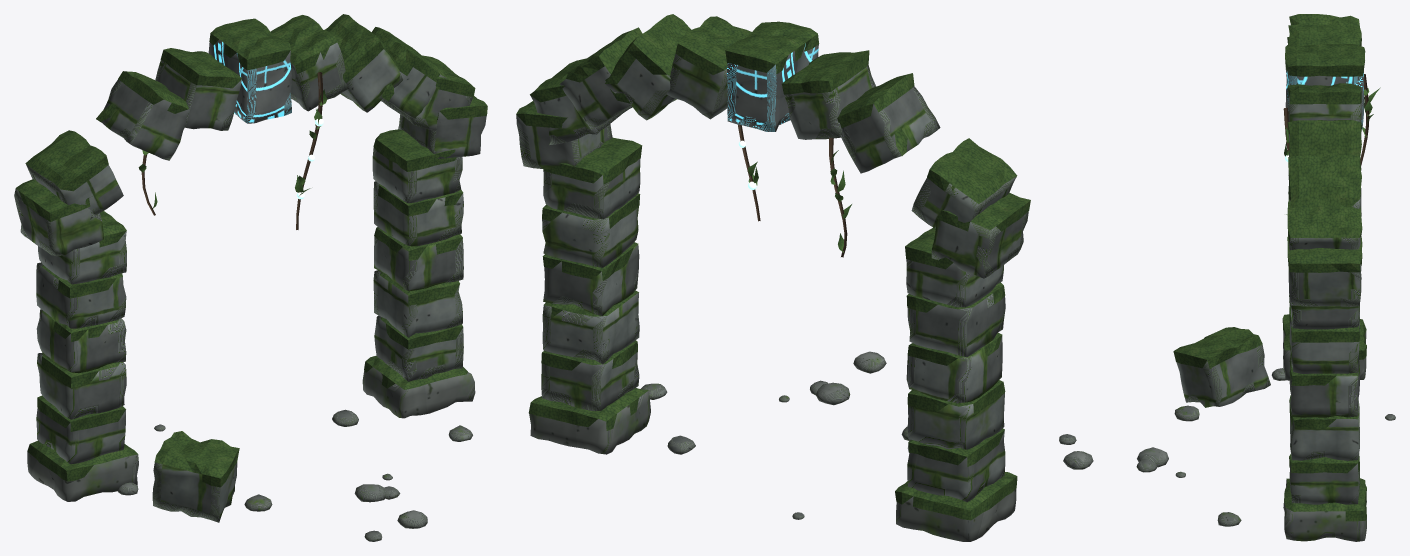
File: ruin_archway.glb
3 renders of one model, left to right at view 1: azimuth 30°, elevation 25°; view 2: azimuth 150°, elevation 25°; view 3: azimuth 270°, elevation 25°, orthographic. The views are drawn at different scales.
Visible parts, largest first — view 1: ruin_archway__stone_wall, ruin_archway__moss, ruin_archway__stone_block, ruin_archway__rune_stone, ruin_archway__root; view 2: ruin_archway__stone_wall, ruin_archway__moss, ruin_archway__stone_block, ruin_archway__rune_stone, ruin_archway__root; view 3: ruin_archway__moss, ruin_archway__stone_wall, ruin_archway__stone_block, ruin_archway__rune_stone, ruin_archway__root.
Boxes of the visible parts, box(x1,y1,x2,y2) form: ruin_archway__stone_wall: box(14, 42, 486, 522); ruin_archway__moss: box(16, 14, 487, 487); ruin_archway__stone_block: box(27, 367, 475, 541); ruin_archway__rune_stone: box(208, 39, 292, 123); ruin_archway__root: box(141, 72, 322, 229); ruin_archway__stone_wall: box(516, 54, 1028, 502); ruin_archway__moss: box(516, 14, 1030, 520); ruin_archway__stone_block: box(529, 351, 1016, 541); ruin_archway__rune_stone: box(727, 43, 818, 131); ruin_archway__root: box(737, 124, 847, 257); ruin_archway__moss: box(1173, 14, 1366, 521); ruin_archway__stone_wall: box(1176, 94, 1361, 504); ruin_archway__stone_block: box(1059, 330, 1395, 541); ruin_archway__rune_stone: box(1285, 67, 1364, 128); ruin_archway__root: box(1283, 74, 1369, 165).
Size of the model in its own units: 5.38 by 4.78 by 3.64.
7 materials, 6 textured.
